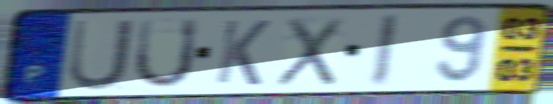9: (432, 14, 490, 85)
I: (368, 12, 403, 89)
K: (212, 17, 273, 88)
U: (65, 17, 137, 93), (130, 16, 202, 91)
X: (272, 15, 346, 89)
